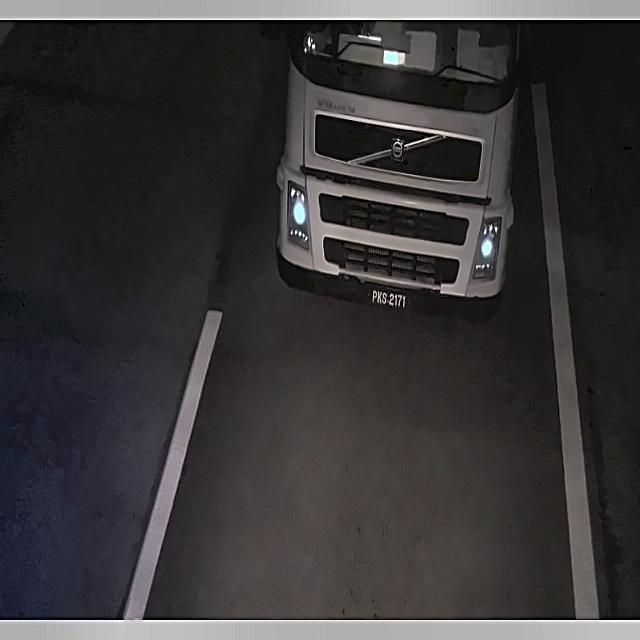car: (366, 287, 410, 314)
